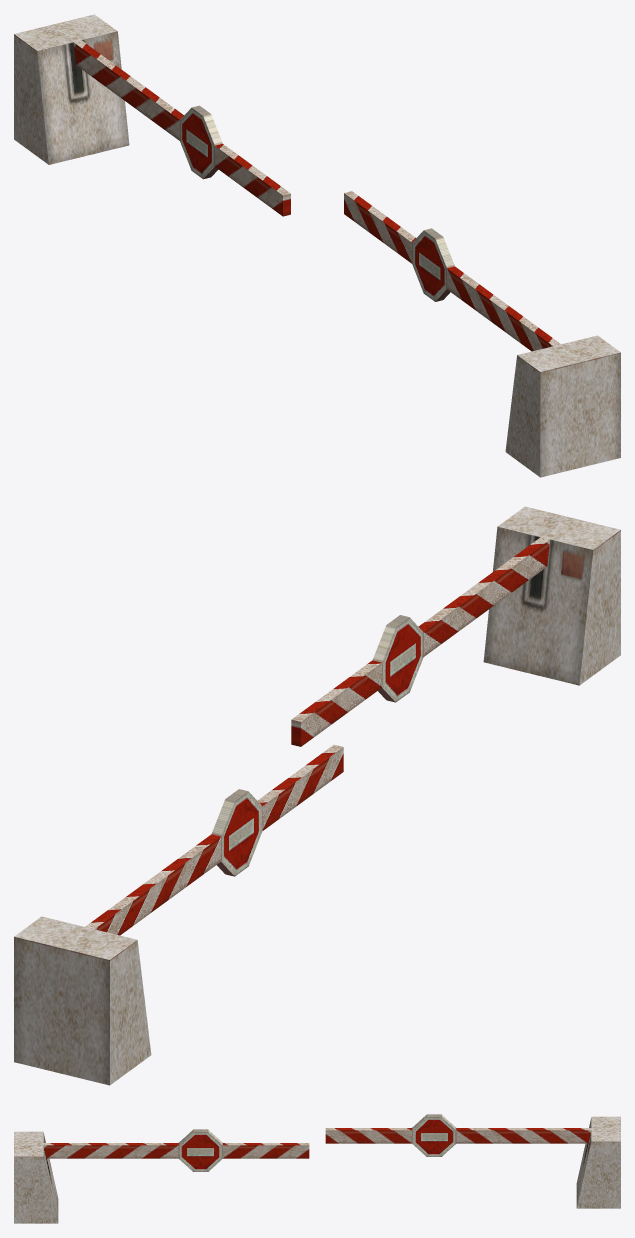
File: RoadBarrier.glb
The picture shows the model from 3 angles, top to bottom: view 1: azimuth 30°, elevation 25°; view 2: azimuth 150°, elevation 25°; view 3: azimuth 270°, elevation 25°; orthographic projection. The views are drawn at different scales.
Visible parts, largest first — view 1: ROADBARRIER; view 2: ROADBARRIER; view 3: ROADBARRIER.
Part boxes in pixels (x1,y1,x2,y2): ROADBARRIER: (14, 14, 620, 477); ROADBARRIER: (14, 506, 620, 1085); ROADBARRIER: (14, 1114, 620, 1223).
Bounding box in the file's own units: 1.6 × 1.5 × 10.27.
Materials: 2 (2 with a texture image).
